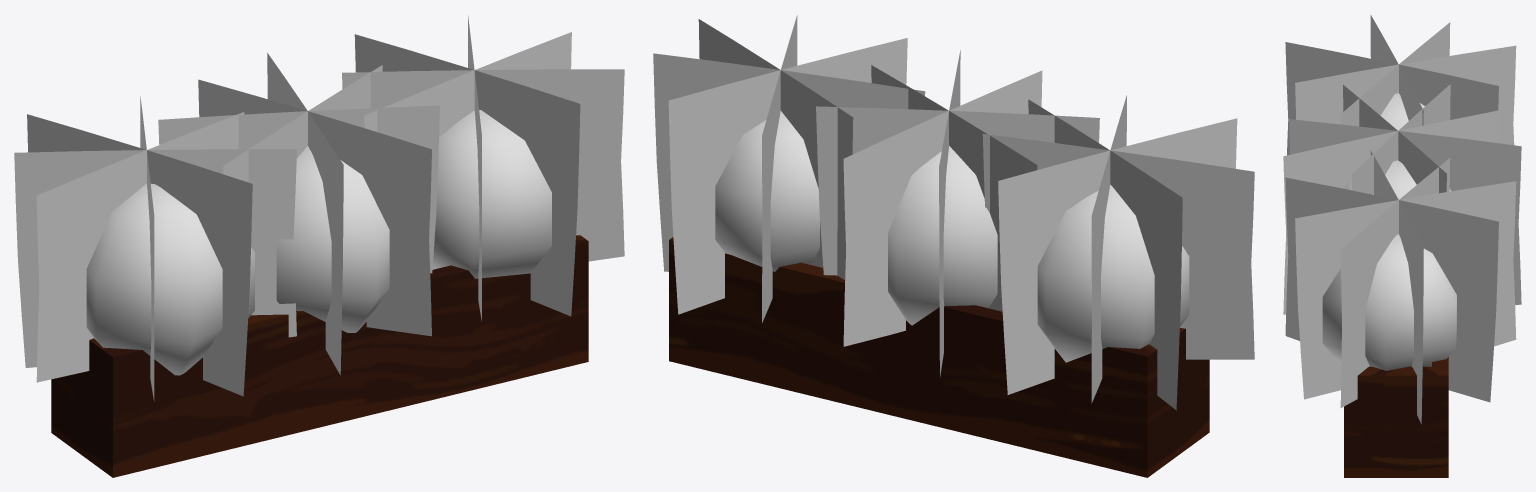
The model's file is SM_PROP_PLANT_pot_v4_01.fbx.
3 views of the same model, side by side, from view 1: azimuth 30°, elevation 25°; view 2: azimuth 150°, elevation 25°; view 3: azimuth 270°, elevation 25° (orthographic). The views are drawn at different scales.
Visible parts, largest first — view 1: SM_PROP_PLANT_pot_v4_01; view 2: SM_PROP_PLANT_pot_v4_01; view 3: SM_PROP_PLANT_pot_v4_01.
Part boxes in pixels (<box>): SM_PROP_PLANT_pot_v4_01: <box>14,15,624,477</box>; SM_PROP_PLANT_pot_v4_01: <box>653,15,1254,477</box>; SM_PROP_PLANT_pot_v4_01: <box>1283,15,1521,477</box>.
Bounding box in the file's own units: 160 × 77.31 × 68.32.
